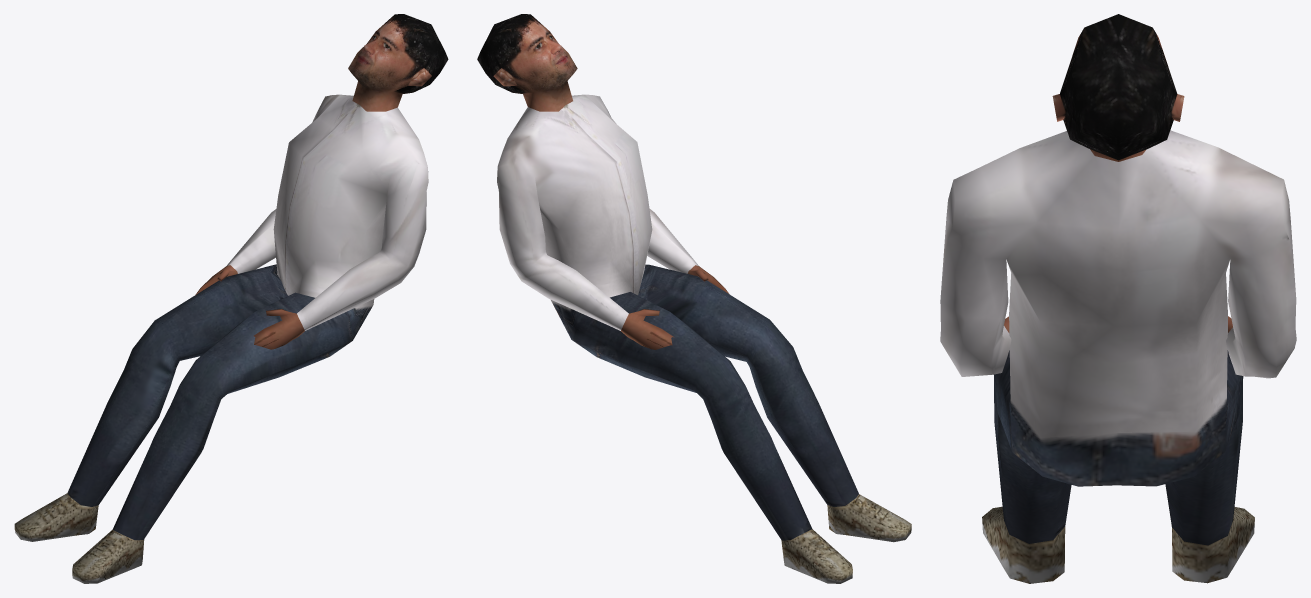
Rendered from menu_sleeper.glb.
3 views of the same model, side by side, from view 1: azimuth 30°, elevation 25°; view 2: azimuth 150°, elevation 25°; view 3: azimuth 270°, elevation 25° (orthographic). The views are drawn at different scales.
Visible parts, largest first — view 1: Sleeping man; view 2: Sleeping man; view 3: Sleeping man.
Part boxes in pixels (left/top/right/bottom): Sleeping man: left=14, top=14, right=448, bottom=583; Sleeping man: left=477, top=14, right=911, bottom=583; Sleeping man: left=940, top=14, right=1296, bottom=583.
Size of the model in its own units: 1.36 by 1.49 by 0.5865.
1 material, 1 textured.
